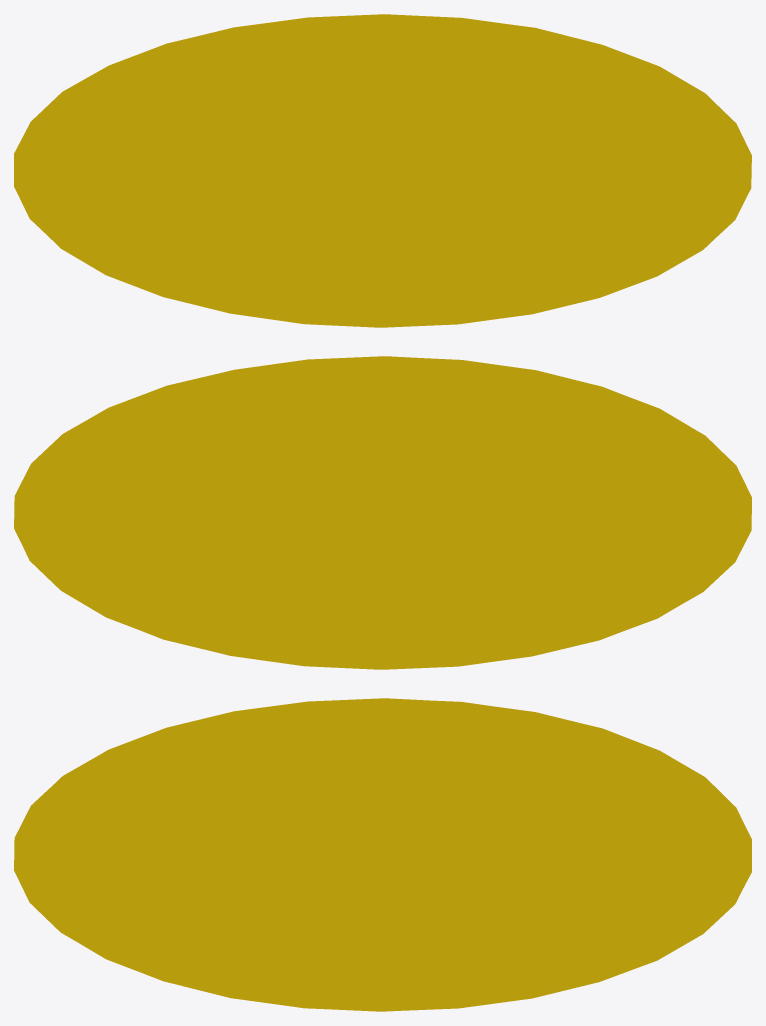
Rendered from original-5.obj.
3 views of the same model, one above another, from view 1: azimuth 30°, elevation 25°; view 2: azimuth 150°, elevation 25°; view 3: azimuth 270°, elevation 25° (orthographic).
Visible parts, largest first — view 1: #ID33; view 2: #ID33; view 3: #ID33.
Part boxes in pixels (x1,y1,x2,y2): #ID33: (14, 14, 751, 327); #ID33: (14, 356, 751, 669); #ID33: (14, 698, 751, 1011).
Size of the model in its own units: 0.2996 by 0.000196 by 0.2981.
